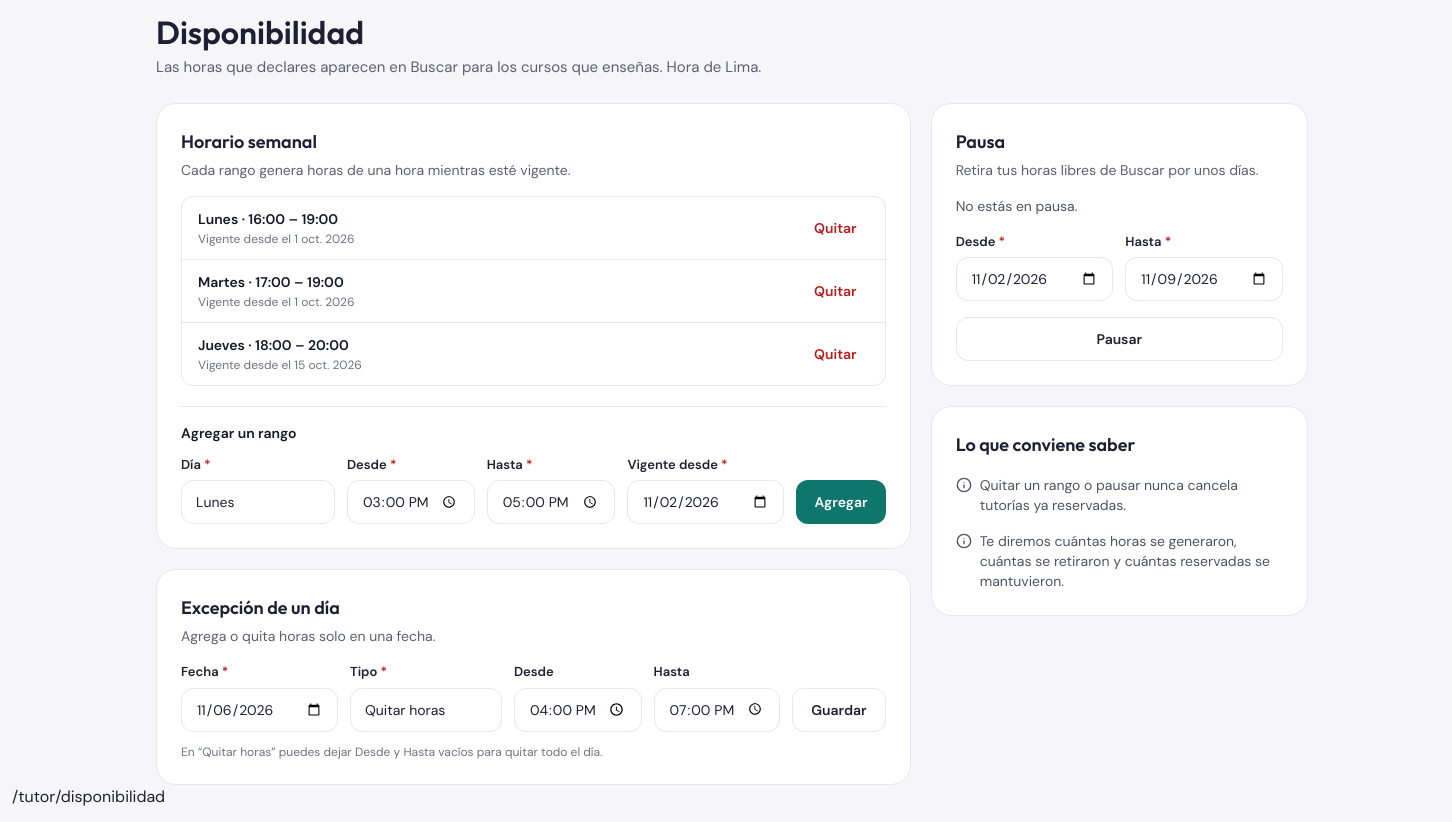
Scenario: FE-40 tutor availability › removes a range, tells the tutor what happened to the hours and refreshes the list
This screenshot has width=1452, height=822.
Check: the text "Lunes · 16:00 – 19:00" is shown, box [198, 208, 355, 228]
Click the button "Quitar" in the row of "16:00" at (835, 228), box [802, 212, 869, 244]
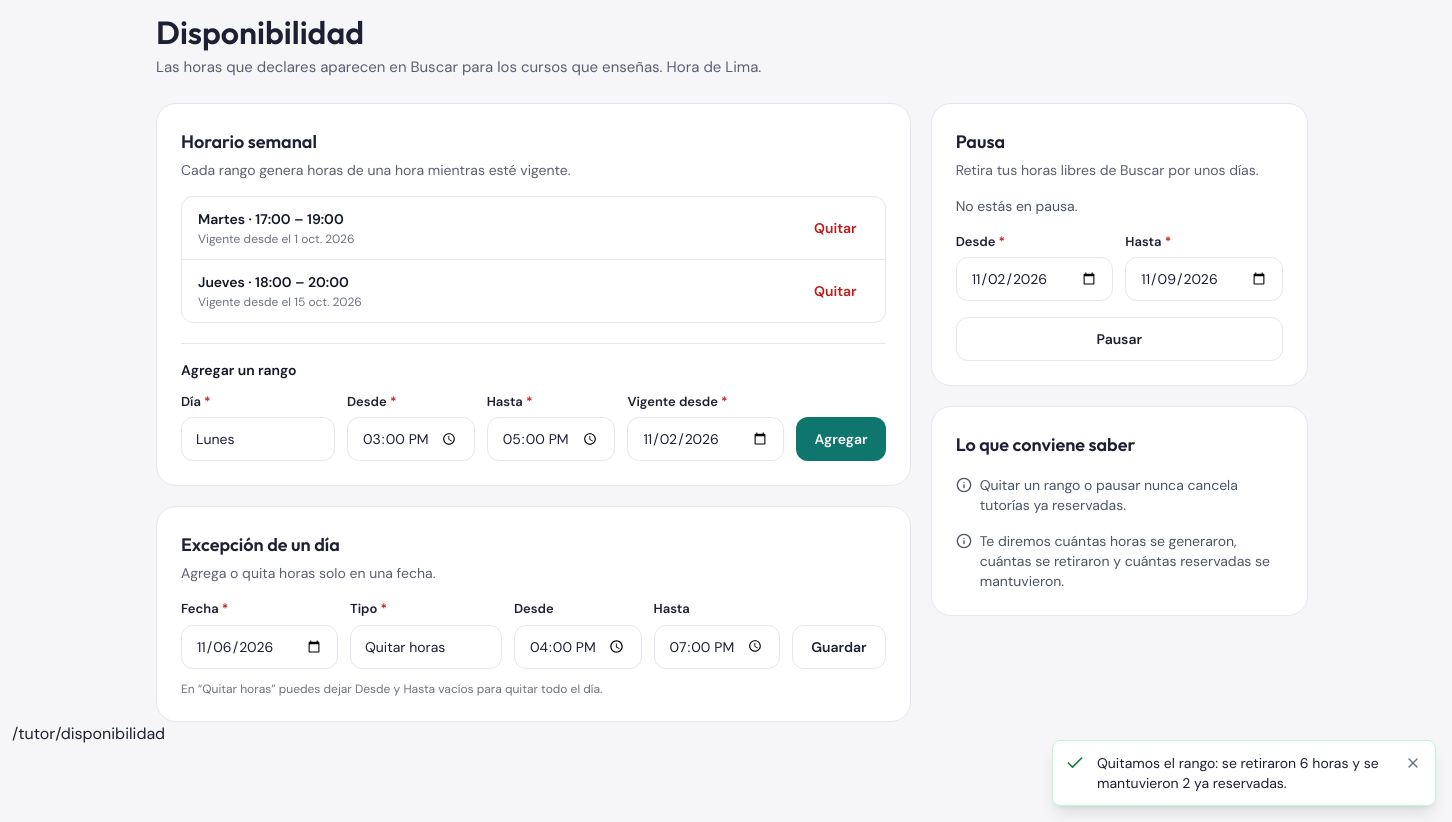
Check: the text "Quitamos el rango: se retiraron 6 horas y se mantuvieron 2 ya reservadas." is shown, box [1097, 753, 1391, 793]
